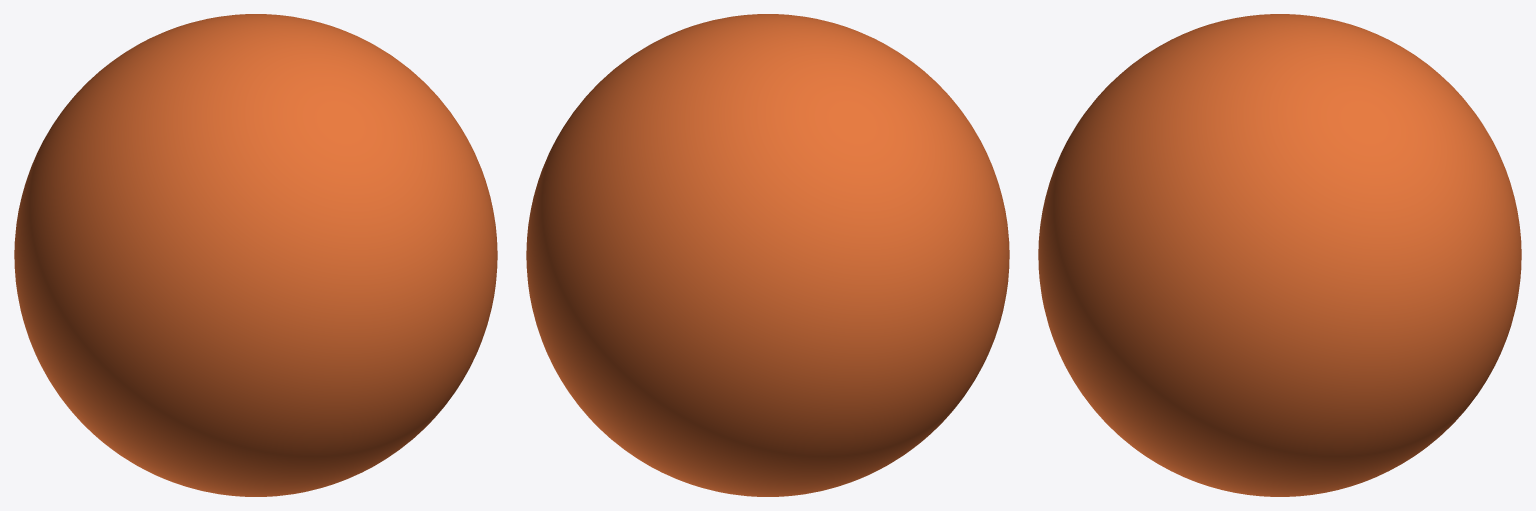
Rendered from ball.glb.
3 renders of one model, left to right at view 1: azimuth 30°, elevation 25°; view 2: azimuth 150°, elevation 25°; view 3: azimuth 270°, elevation 25°, orthographic.
Parts seen in each view (by area): view 1: Ball; view 2: Ball; view 3: Ball.
Boxes of the visible parts, x1,y1,x2,y2 form: Ball: (14, 14, 497, 496); Ball: (526, 14, 1009, 496); Ball: (1038, 14, 1521, 496).
Bounding box in the file's own units: 0.08 × 0.0799 × 0.08.
